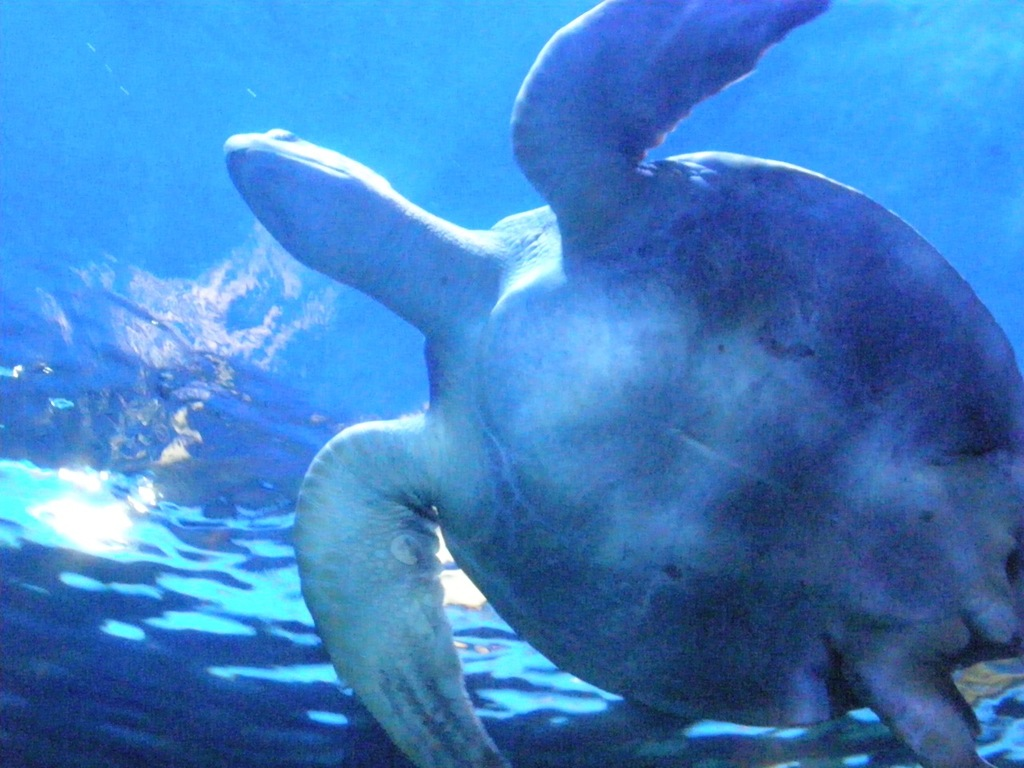Sea turtles: (214, 0, 1023, 767)
